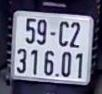0: (59, 48, 73, 78)
1: (75, 51, 85, 80), (29, 48, 38, 77)
2: (69, 20, 81, 50)
3: (15, 46, 28, 76)
5: (23, 14, 36, 45)
6: (43, 48, 55, 79)
9: (36, 16, 48, 46)
C: (58, 16, 69, 47)
